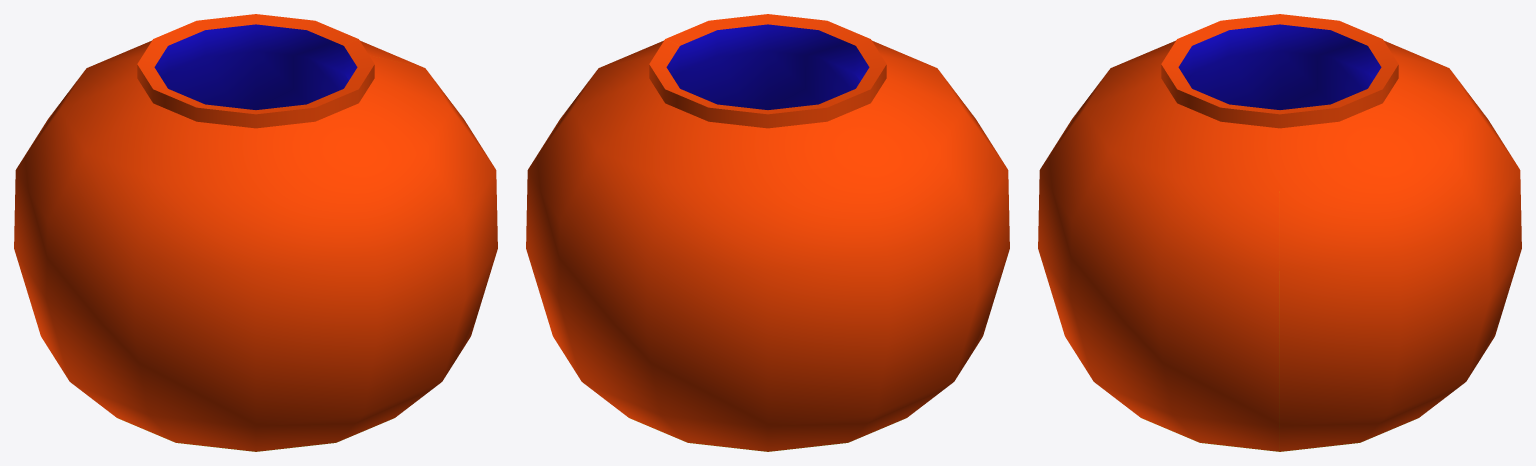
Rendered from Pot2.fbx.
3 renders of one model, left to right at view 1: azimuth 30°, elevation 25°; view 2: azimuth 150°, elevation 25°; view 3: azimuth 270°, elevation 25°, orthographic.
Visible parts, largest first — view 1: BigPot; view 2: BigPot; view 3: BigPot.
Part boxes in pixels (<box>): BigPot: <box>14,14,497,451</box>; BigPot: <box>526,14,1009,451</box>; BigPot: <box>1038,14,1521,451</box>.
Bounding box in the file's own units: 28.67 × 20.92 × 28.67.
1 material, 1 textured.
